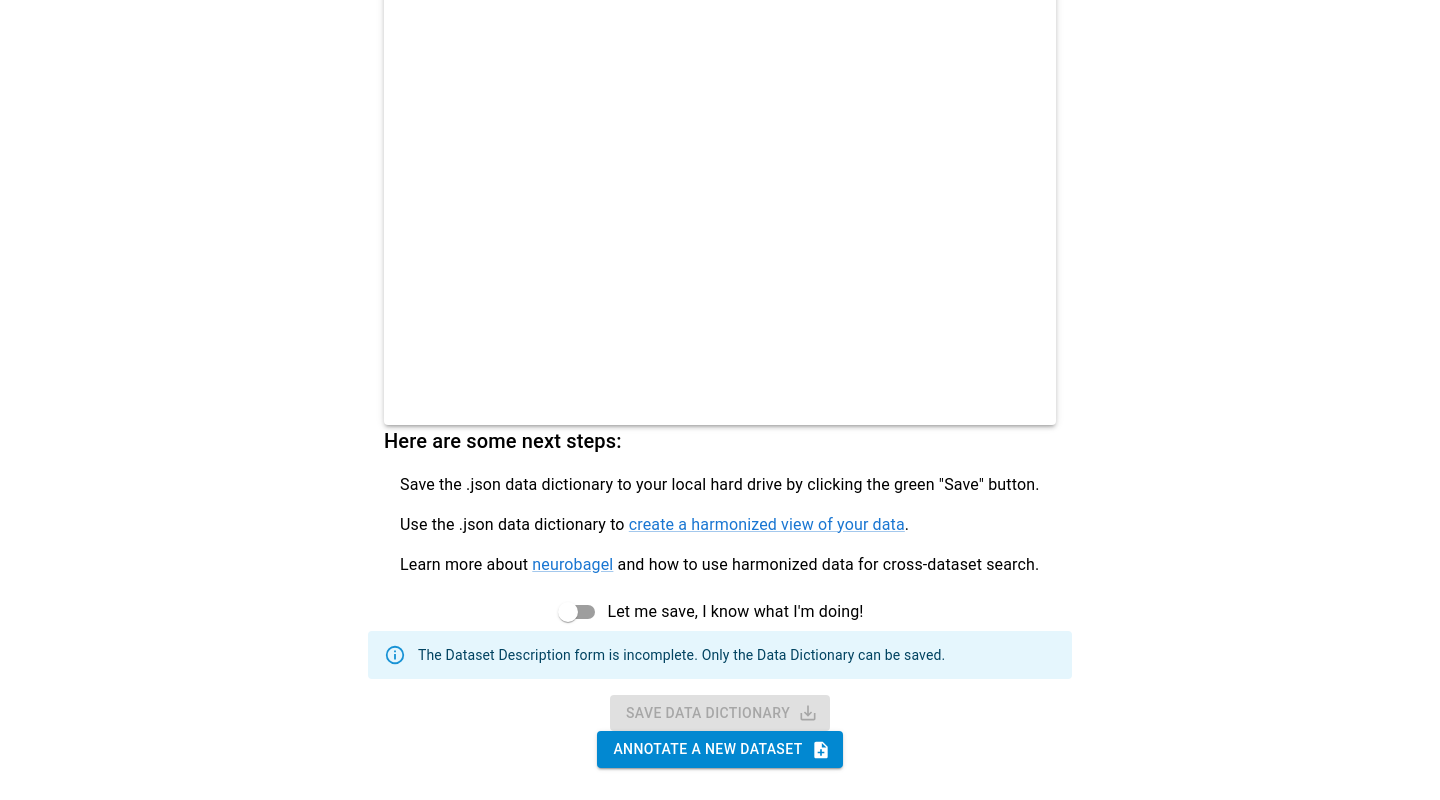
Download › should render the component correctly when the data dictionary is invalid
The width and height of the screenshot is (1440, 800).
(page scrolled)
Expected: the element with test id "datadictionary-preview" is shown, [384,0,1056,425]
Expected: the button with test id "download-datadictionary-button" is disabled, [610,695,830,732]
Click the element with test id "force-download-switch".
click(568, 612)  # box [558,602,578,622]
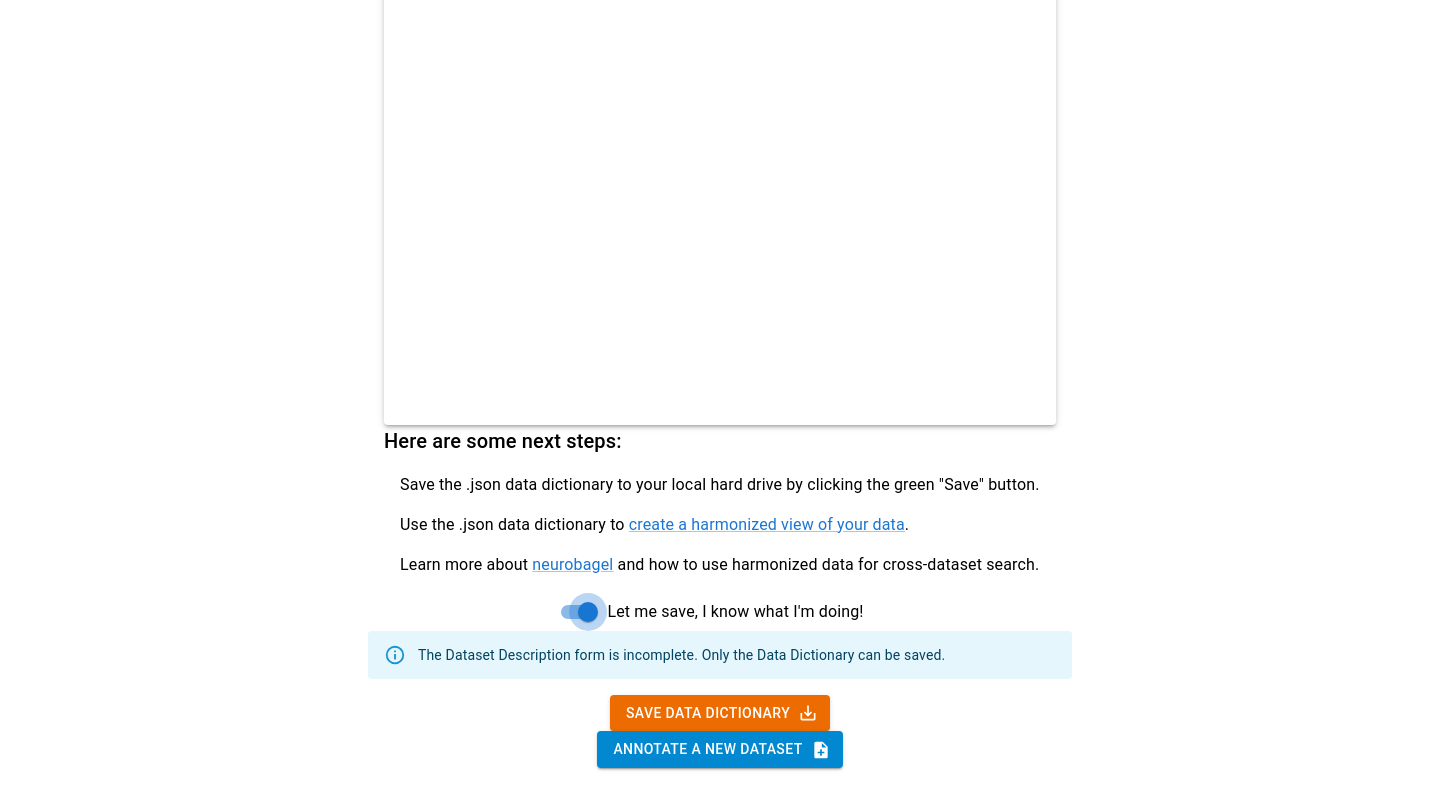
Expected: the button with test id "download-datadictionary-button" is enabled, [610,695,830,732]
